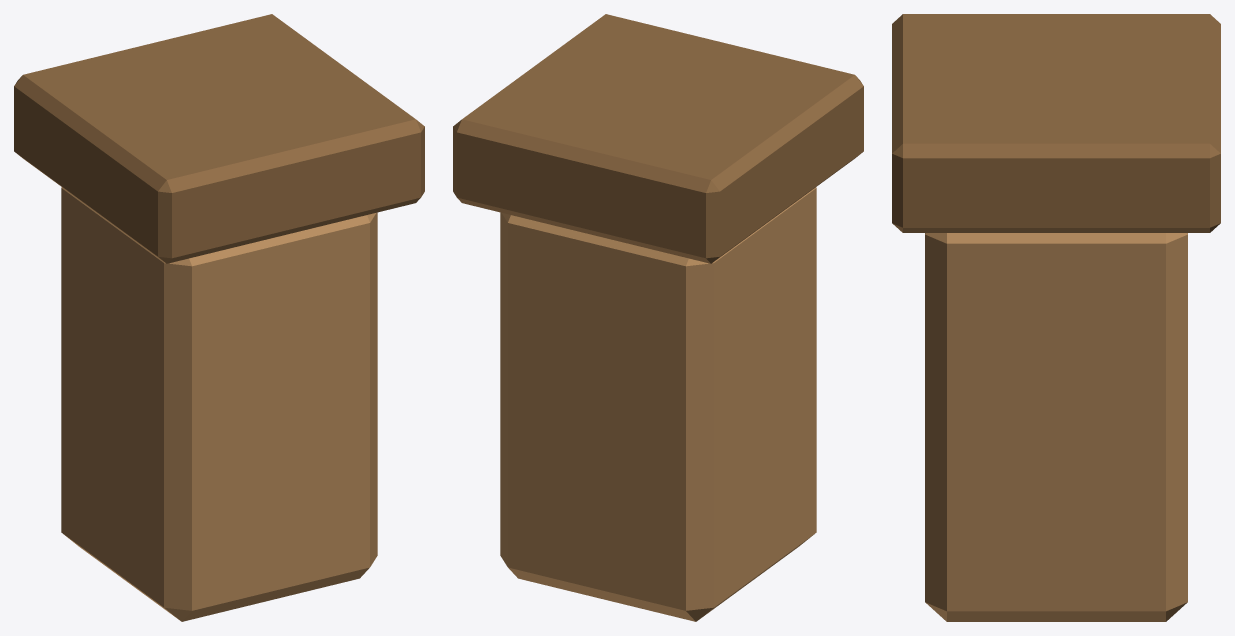
File: pilier_bois_haut.glb
3 views of the same model, side by side, from view 1: azimuth 30°, elevation 25°; view 2: azimuth 150°, elevation 25°; view 3: azimuth 270°, elevation 25° (orthographic). The views are drawn at different scales.
Visible parts, largest first — view 1: pilier_bois_haut_planche.002, pilier_bois_haut_planche_sombre.002; view 2: pilier_bois_haut_planche.002, pilier_bois_haut_planche_sombre.002; view 3: pilier_bois_haut_planche.002, pilier_bois_haut_planche_sombre.002.
Part boxes in pixels (x1=…): pilier_bois_haut_planche.002: x1=61, y1=187, x2=377, y2=621; pilier_bois_haut_planche_sombre.002: x1=14, y1=14, x2=424, y2=263; pilier_bois_haut_planche.002: x1=500, y1=187, x2=816, y2=621; pilier_bois_haut_planche_sombre.002: x1=453, y1=14, x2=863, y2=263; pilier_bois_haut_planche.002: x1=925, y1=233, x2=1187, y2=621; pilier_bois_haut_planche_sombre.002: x1=892, y1=14, x2=1220, y2=232.
Bounding box in the file's own units: 0.3 × 0.5 × 0.3.
